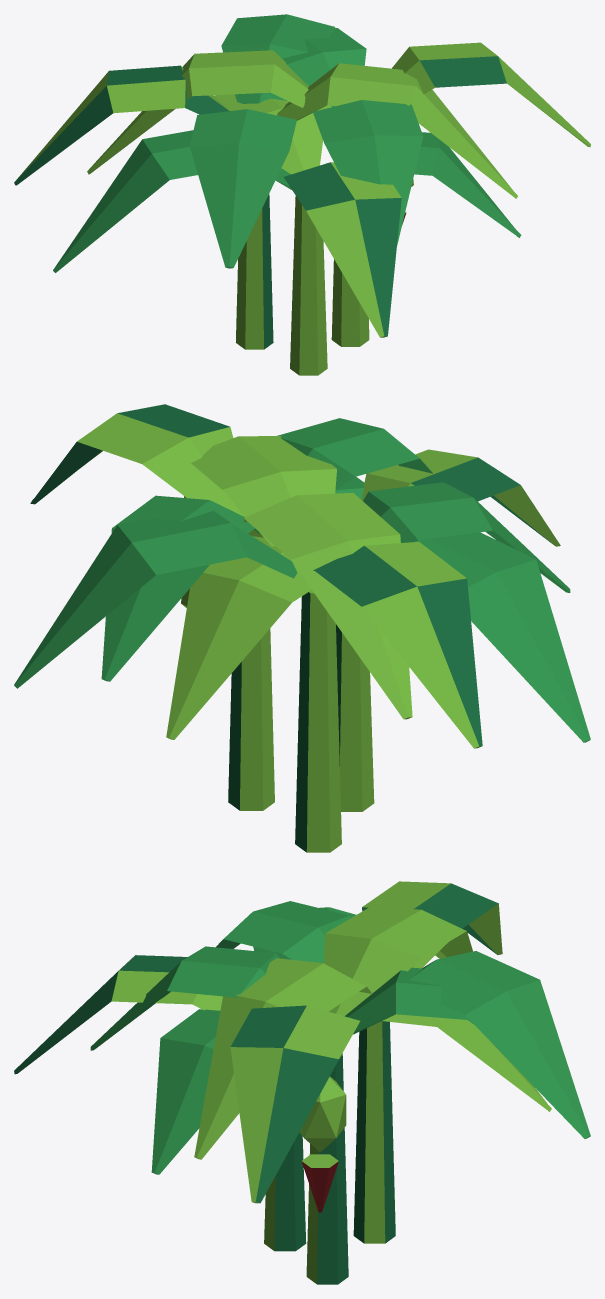
File: Platanero.fbx
3 views of the same model, one above another, from view 1: azimuth 30°, elevation 25°; view 2: azimuth 150°, elevation 25°; view 3: azimuth 270°, elevation 25° (orthographic). The views are drawn at different scales.
Visible parts, largest first — view 1: Platanero; view 2: Platanero; view 3: Platanero.
Part boxes in pixels (<box>): Platanero: <box>14,14,590,375</box>; Platanero: <box>14,404,590,852</box>; Platanero: <box>14,881,590,1284</box>.
Size of the model in its own units: 1.36 by 0.7241 by 1.23.
